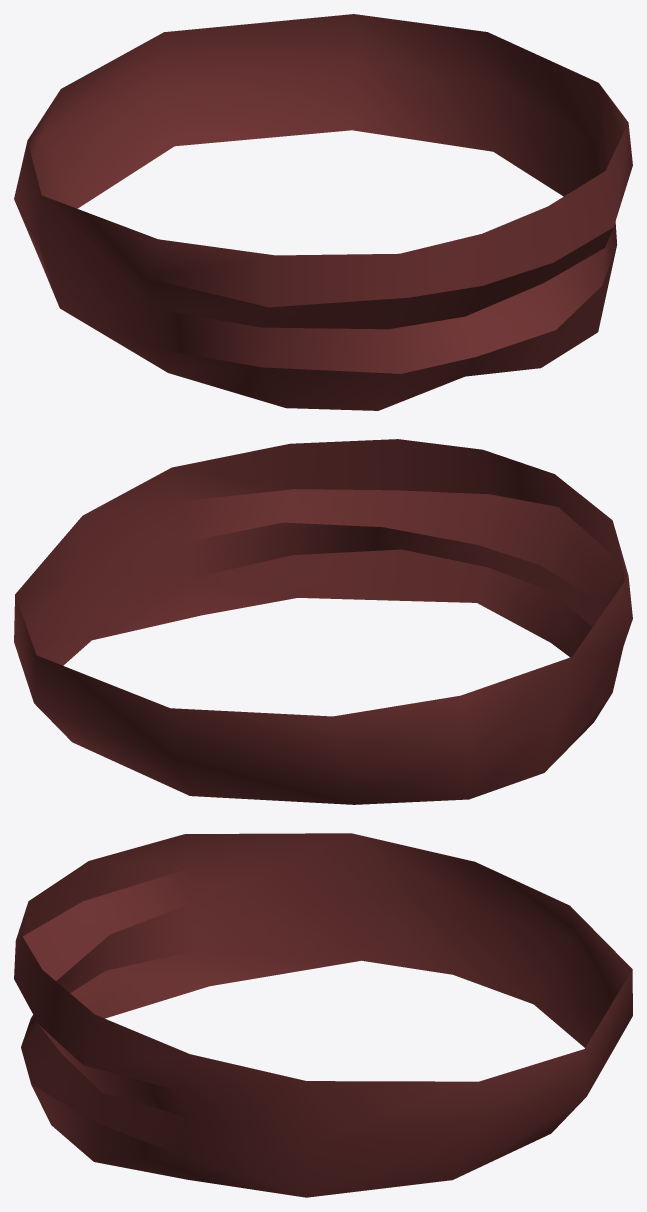
The model's file is blindfold_Hai.fbx.
3 views of the same model, one above another, from view 1: azimuth 30°, elevation 25°; view 2: azimuth 150°, elevation 25°; view 3: azimuth 270°, elevation 25° (orthographic). The views are drawn at different scales.
Parts seen in each view (by area): view 1: blindfold_Hai; view 2: blindfold_Hai; view 3: blindfold_Hai.
Boxes of the visible parts, x1,y1,x2,y2 form: blindfold_Hai: (14, 14, 632, 410); blindfold_Hai: (14, 439, 632, 804); blindfold_Hai: (14, 833, 632, 1197).
Size of the model in its own units: 35.17 by 10.54 by 36.99.
